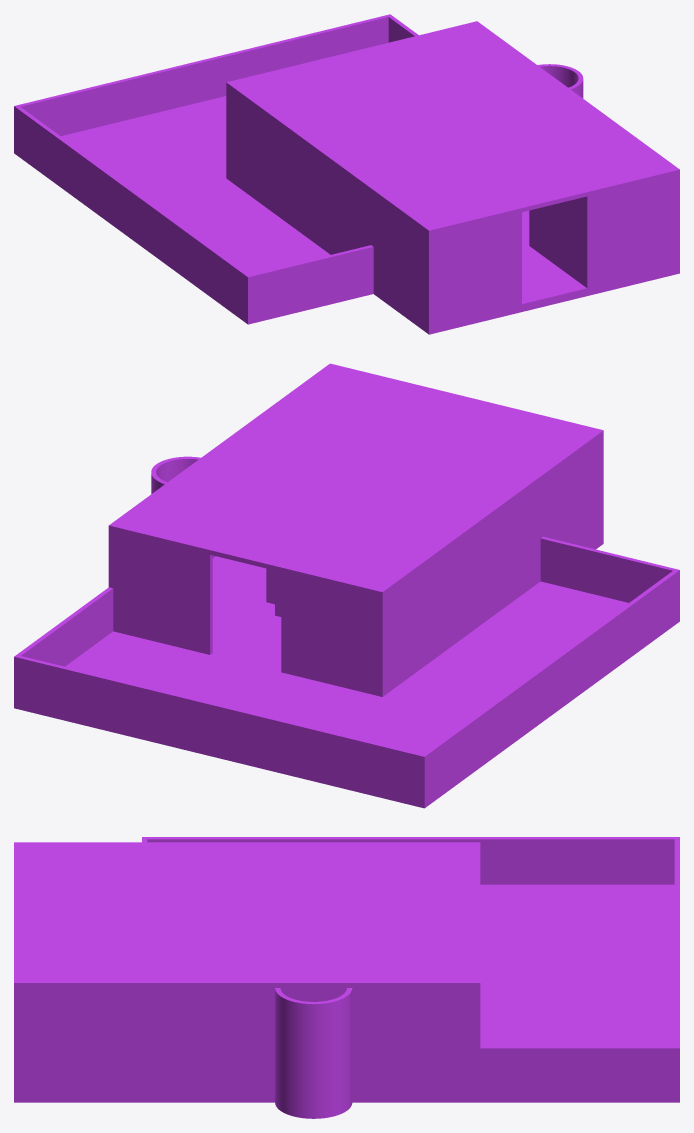
File: techo.gltf
3 renders of one model, top to bottom at view 1: azimuth 30°, elevation 25°; view 2: azimuth 150°, elevation 25°; view 3: azimuth 270°, elevation 25°, orthographic. The views are drawn at different scales.
Parts seen in each view (by area): view 1: Layer 03, Object_1, EXTRUSIONES 3, Object_14, Object_7, Object_6, Object_9, Object_17; view 2: Layer 03, Object_1, EXTRUSIONES 3, Object_14, Object_7, Object_6, Object_9, Object_8, Object_17; view 3: Layer 03, Object_17, Object_1, Object_6, Object_8, Object_7, EXTRUSIONES 3, Object_3.
Part boxes in pixels (bbox=[...]): Layer 03: bbox=[226, 21, 679, 234]; Object_1: bbox=[14, 96, 679, 334]; EXTRUSIONES 3: bbox=[226, 87, 679, 326]; Object_14: bbox=[228, 88, 426, 324]; Object_7: bbox=[14, 14, 391, 146]; Object_6: bbox=[16, 107, 249, 314]; Object_9: bbox=[245, 245, 373, 316]; Object_17: bbox=[537, 64, 583, 98]; Layer 03: bbox=[108, 363, 603, 596]; Object_1: bbox=[14, 535, 679, 808]; EXTRUSIONES 3: bbox=[108, 435, 603, 696]; Object_14: bbox=[385, 437, 601, 694]; Object_7: bbox=[14, 655, 426, 799]; Object_6: bbox=[423, 571, 677, 797]; Object_9: bbox=[540, 536, 679, 614]; Object_8: bbox=[17, 587, 113, 666]; Object_17: bbox=[151, 456, 215, 557]; Layer 03: bbox=[14, 842, 480, 987]; Object_17: bbox=[19, 988, 474, 1109]; Object_1: bbox=[14, 884, 679, 1118]; Object_6: bbox=[147, 837, 674, 884]; Object_8: bbox=[480, 1046, 674, 1093]; Object_7: bbox=[674, 837, 679, 1093]; EXTRUSIONES 3: bbox=[14, 988, 480, 1093]; Object_3: bbox=[280, 988, 346, 1001].
Bounding box in the file's own units: 16.16 × 3.96 × 20.
